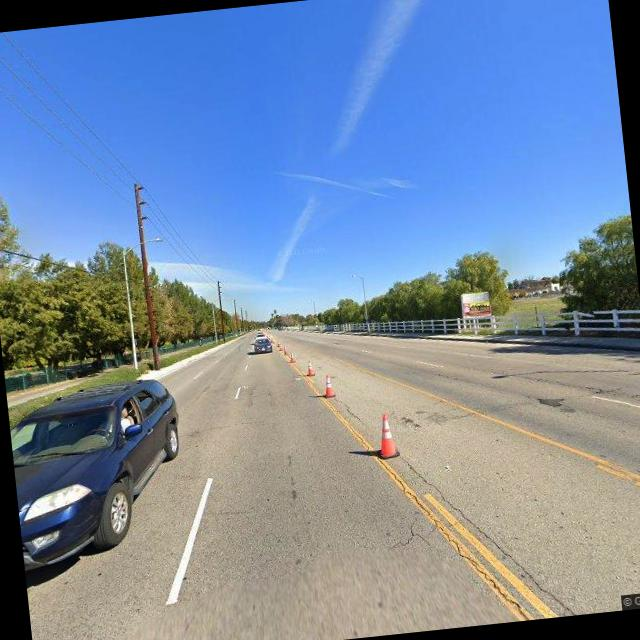pothole: (350, 407, 582, 636), (392, 427, 572, 627), (331, 390, 366, 426)
